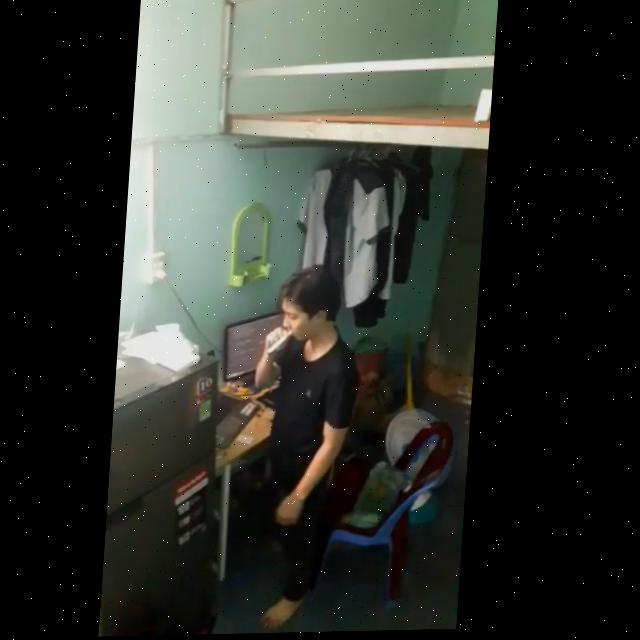cigarette: (270, 331, 297, 355)
